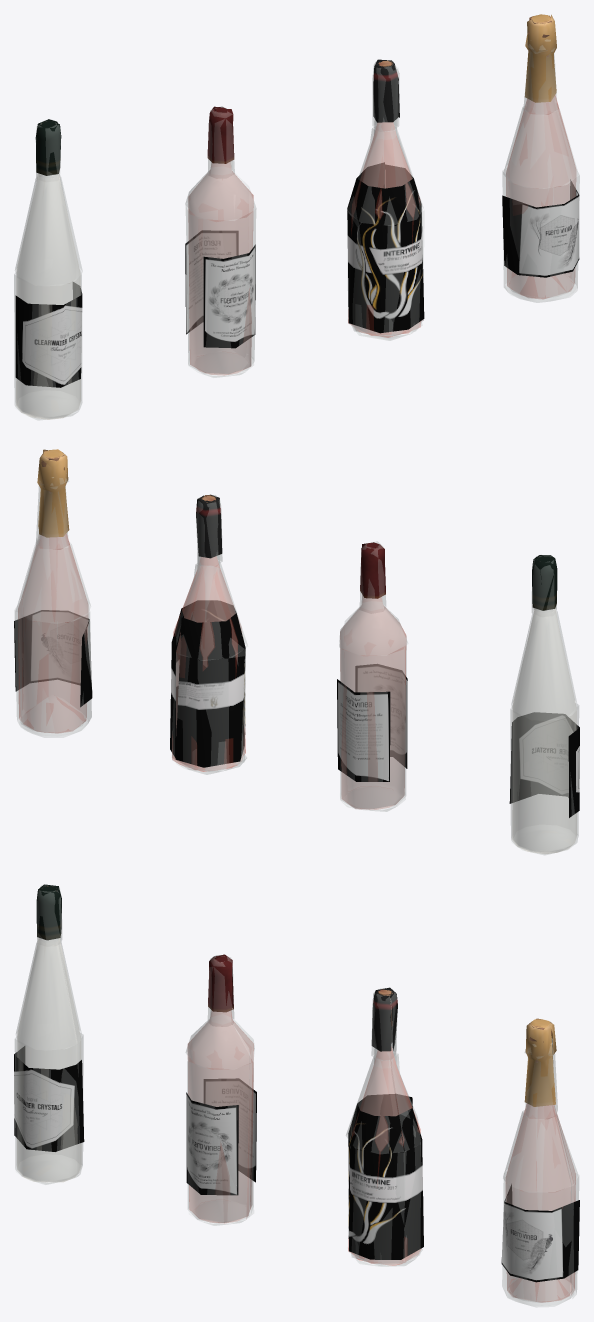
The model's file is bottles_wine.glb.
3 views of the same model, one above another, from view 1: azimuth 30°, elevation 25°; view 2: azimuth 150°, elevation 25°; view 3: azimuth 330°, elevation 25° (orthographic).
Parts seen in each view (by area): view 1: wine_bottles_01_champagne, wine_bottles_01_alsace, wine_bottles_01_burgundy, wine_bottles_01_bordeaux; view 2: wine_bottles_01_champagne, wine_bottles_01_alsace, wine_bottles_01_burgundy, wine_bottles_01_bordeaux; view 3: wine_bottles_01_champagne, wine_bottles_01_alsace, wine_bottles_01_burgundy, wine_bottles_01_bordeaux.
Part boxes in pixels (left/top/right/bottom): wine_bottles_01_champagne: left=502, top=14, right=579, bottom=302; wine_bottles_01_alsace: left=14, top=119, right=82, bottom=420; wine_bottles_01_burgundy: left=347, top=59, right=424, bottom=340; wine_bottles_01_bordeaux: left=185, top=106, right=256, bottom=377; wine_bottles_01_champagne: left=14, top=449, right=92, bottom=737; wine_bottles_01_alsace: left=509, top=555, right=579, bottom=855; wine_bottles_01_burgundy: left=170, top=494, right=247, bottom=774; wine_bottles_01_bordeaux: left=337, top=541, right=407, bottom=811; wine_bottles_01_champagne: left=501, top=1018, right=579, bottom=1307; wine_bottles_01_alsace: left=14, top=884, right=84, bottom=1184; wine_bottles_01_burgundy: left=346, top=987, right=423, bottom=1266; wine_bottles_01_bordeaux: left=185, top=954, right=256, bottom=1225.
Size of the model in its own units: 0.6775 by 0.3326 by 0.0816.
12 materials, 5 textured.
